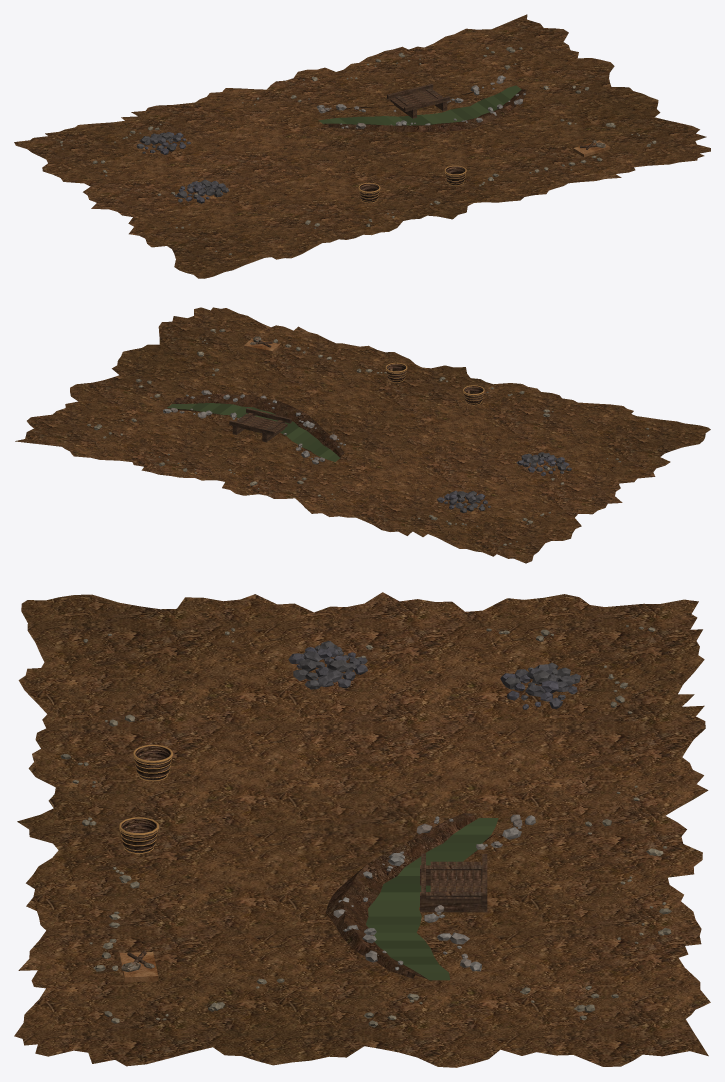
File: tinmine@2.glb
3 renders of one model, top to bottom at view 1: azimuth 30°, elevation 25°; view 2: azimuth 150°, elevation 25°; view 3: azimuth 270°, elevation 25°, orthographic. The views are drawn at different scales.
Parts seen in each view (by area): view 1: part_0, part_1, part_3, part_2, part_4, part_5; view 2: part_0, part_1, part_2, part_3, part_4, part_5; view 3: part_0, part_1, part_3, part_2, part_4, part_5, part_6, part_7.
Boxes of the visible parts, x1=… form: part_0: x1=14, y1=14, x2=710, y2=278; part_1: x1=59, y1=47, x2=656, y2=255; part_3: x1=318, y1=85, x2=521, y2=125; part_2: x1=324, y1=80, x2=526, y2=132; part_4: x1=387, y1=83, x2=597, y2=149; part_5: x1=359, y1=166, x2=465, y2=202; part_0: x1=15, y1=307, x2=710, y2=563; part_1: x1=87, y1=329, x2=649, y2=545; part_2: x1=167, y1=394, x2=344, y2=457; part_3: x1=167, y1=403, x2=340, y2=461; part_4: x1=229, y1=340, x2=291, y2=442; part_5: x1=386, y1=363, x2=483, y2=404; part_0: x1=14, y1=592, x2=710, y2=1067; part_1: x1=60, y1=625, x2=671, y2=1027; part_3: x1=366, y1=818, x2=498, y2=980; part_2: x1=326, y1=813, x2=497, y2=979; part_4: x1=127, y1=853, x2=487, y2=964; part_5: x1=121, y1=746, x2=170, y2=852; part_6: x1=119, y1=744, x2=173, y2=853; part_7: x1=119, y1=951, x2=158, y2=982.
Size of the model in its own units: 9.89 by 0.2784 by 6.12.
10 materials, 7 textured.
